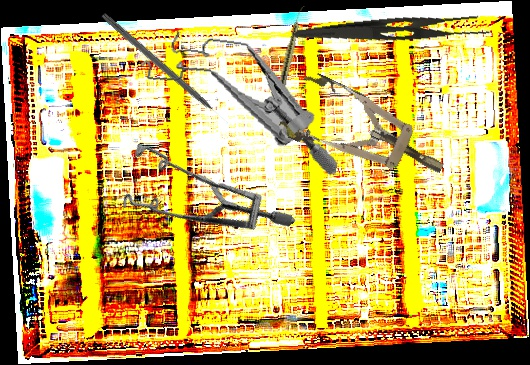Dressing Forceps: (292, 5, 492, 61)
Handpiece: (271, 4, 306, 117)
Hook Surgical: (99, 11, 231, 128)
Speculum: (99, 99, 296, 300), (129, 22, 353, 179), (275, 67, 457, 202)
